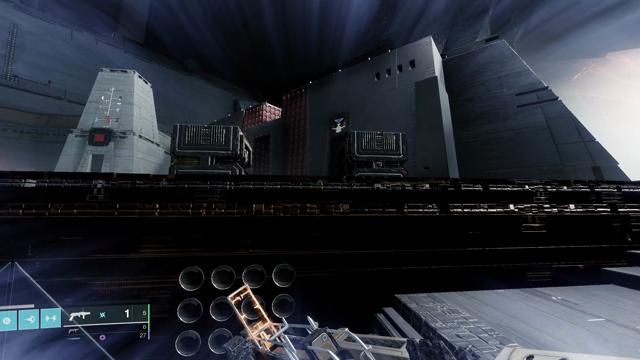drink: (329, 116, 348, 134)
stop: (90, 129, 110, 146)
